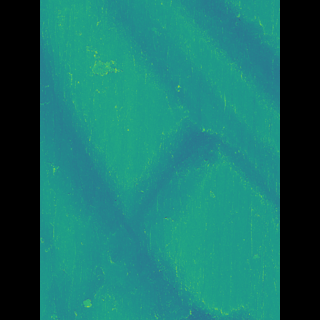Loch: (69, 103, 165, 319), (142, 179, 233, 320), (177, 0, 250, 118)
